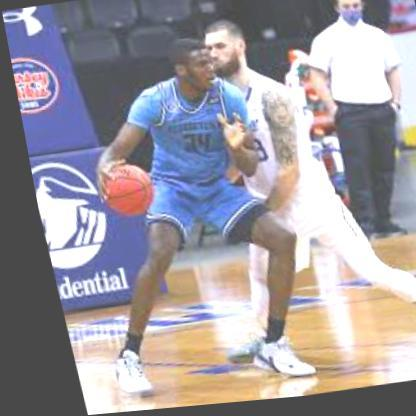basketball: (90, 163, 150, 219)
